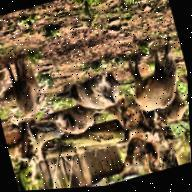boar: (56, 42, 149, 115), (116, 42, 189, 124), (0, 39, 55, 136), (43, 102, 99, 144)
